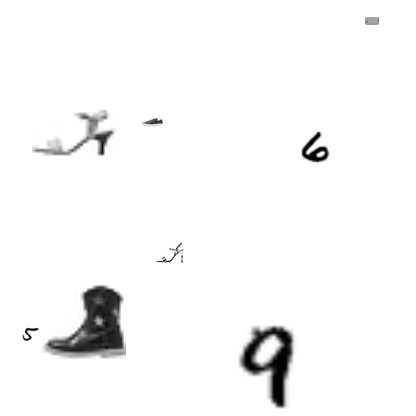5: (18, 322, 40, 344)
6: (293, 129, 335, 171)
9: (212, 303, 324, 415)
Ankle_boot: (42, 280, 126, 364)
Bag: (365, 14, 379, 28)
Sandal: (32, 89, 116, 173), (156, 238, 184, 266)
Sneaker: (141, 111, 163, 133)
